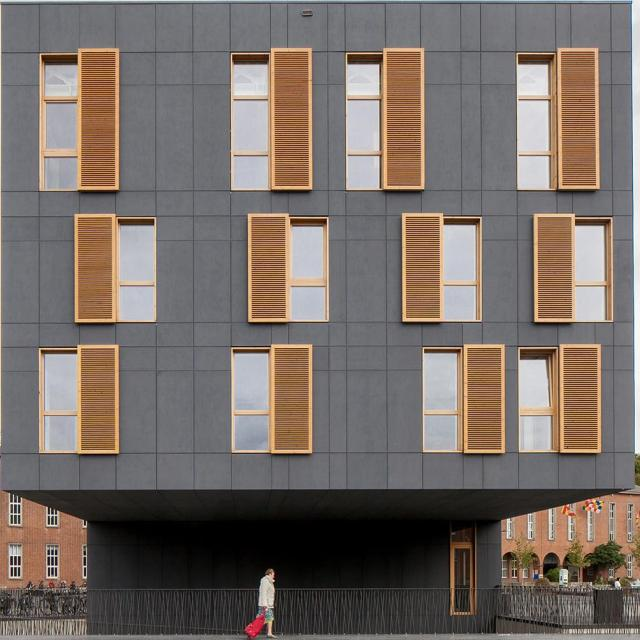window: (346, 61, 382, 188), (46, 61, 82, 187), (234, 61, 270, 187), (519, 63, 555, 189), (573, 220, 613, 323), (514, 350, 554, 452), (117, 217, 155, 323), (42, 347, 80, 453), (229, 348, 267, 452), (288, 219, 326, 322), (442, 220, 478, 321), (423, 348, 458, 449), (452, 527, 473, 615)
